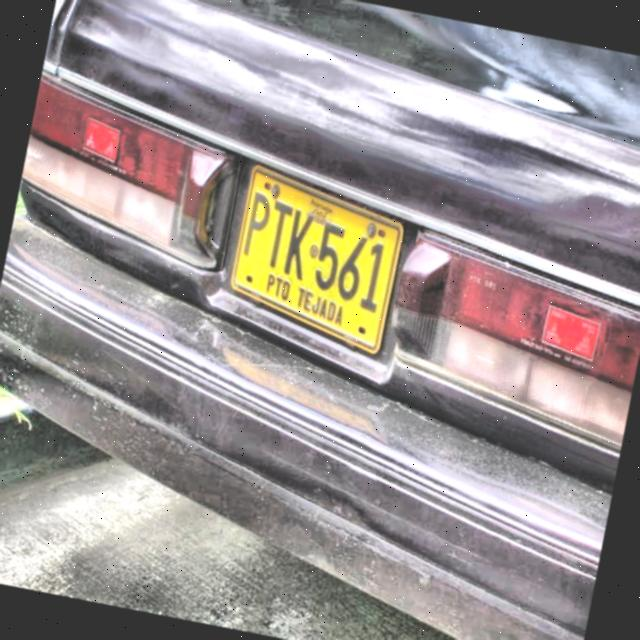1: (355, 239, 391, 317)
5: (312, 220, 348, 295)
6: (333, 229, 371, 306)
K: (280, 206, 316, 283)
P: (241, 187, 274, 265)
T: (262, 198, 296, 273)
